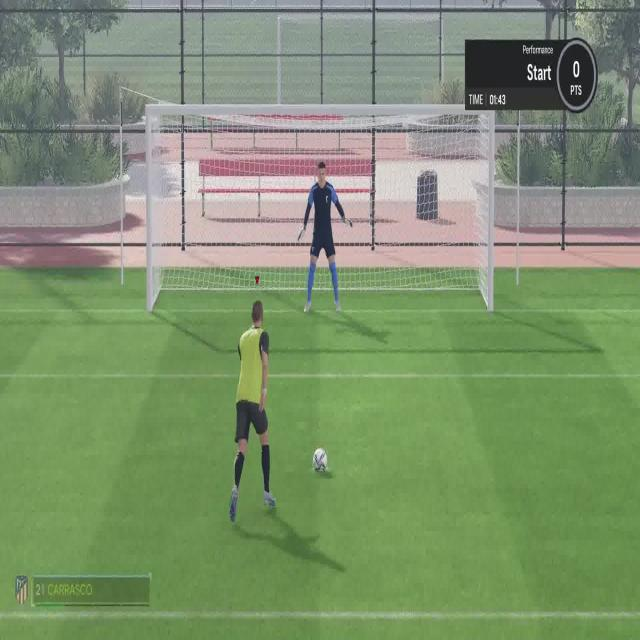football: (309, 443, 330, 474)
goal-bottom-left: (147, 212, 260, 312)
goal-bottom-right: (374, 211, 488, 312)
goal-middle-down: (261, 211, 374, 312)
goal-middle-up: (261, 109, 374, 211)
goal-top-left: (147, 110, 260, 211)
goal-top-right: (374, 110, 488, 211)
goalkeeper: (299, 158, 353, 313)
player: (226, 299, 282, 520)
